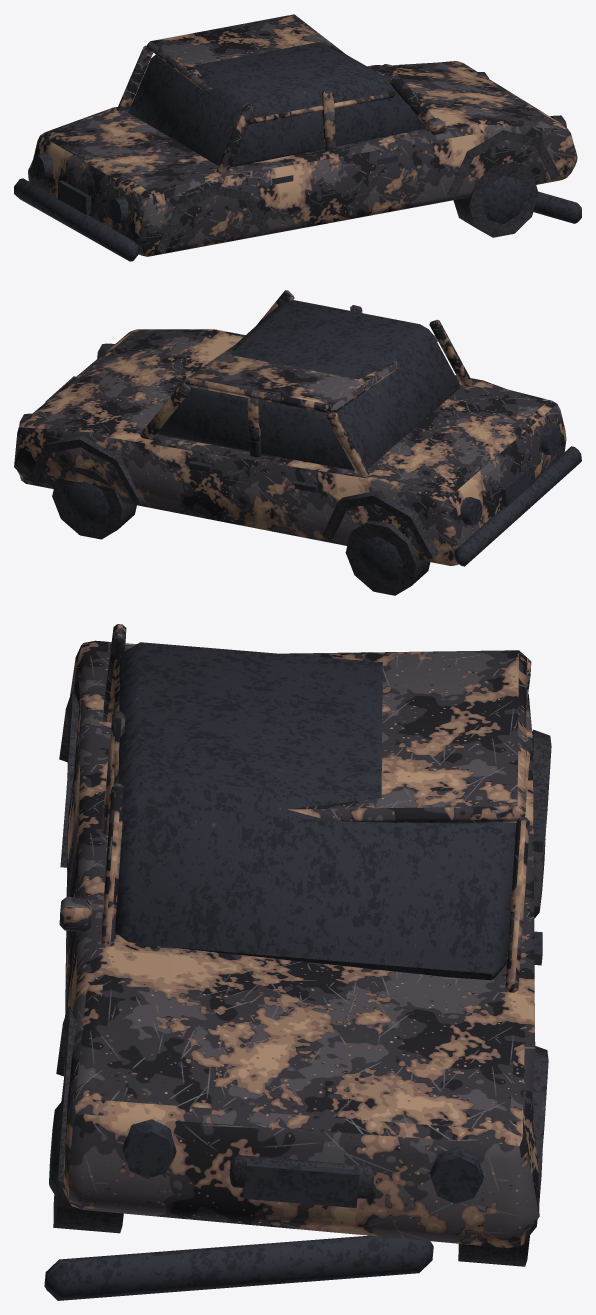
The model's file is car_wreck.glb.
3 renders of one model, top to bottom at view 1: azimuth 30°, elevation 25°; view 2: azimuth 150°, elevation 25°; view 3: azimuth 270°, elevation 25°, orthographic. The views are drawn at different scales.
Visible parts, largest first — view 1: Car; view 2: Car; view 3: Car.
Boxes of the visible parts, x1,y1,x2,y2 form: Car: (14,14,581,261); Car: (14,290,581,595); Car: (44,624,551,1300).
Bounding box in the file's own units: 3.95 × 1.64 × 1.89.
3 materials, 3 textured.
